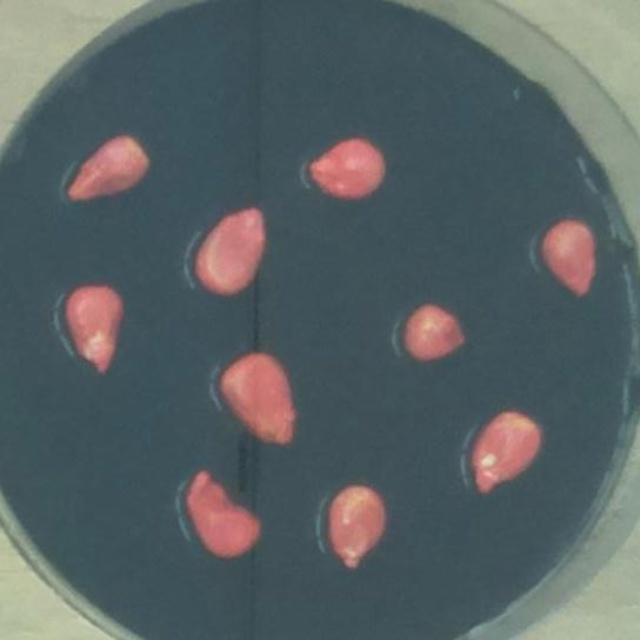Zea mays: (209, 342, 302, 454), (176, 459, 269, 566), (459, 403, 550, 502), (187, 198, 272, 302), (57, 128, 158, 209), (55, 278, 130, 382), (297, 129, 394, 208), (320, 475, 395, 576), (533, 211, 603, 304), (395, 294, 475, 370)
